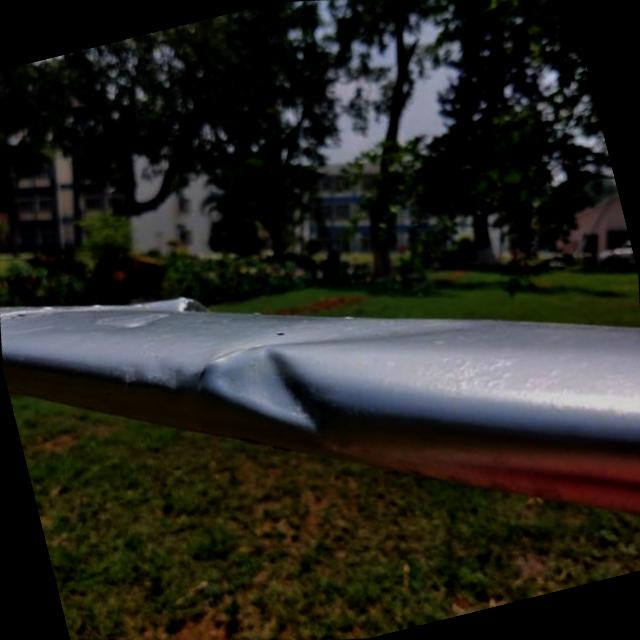Missing Fastener: (270, 327, 292, 343)
dent: (186, 328, 348, 457)
